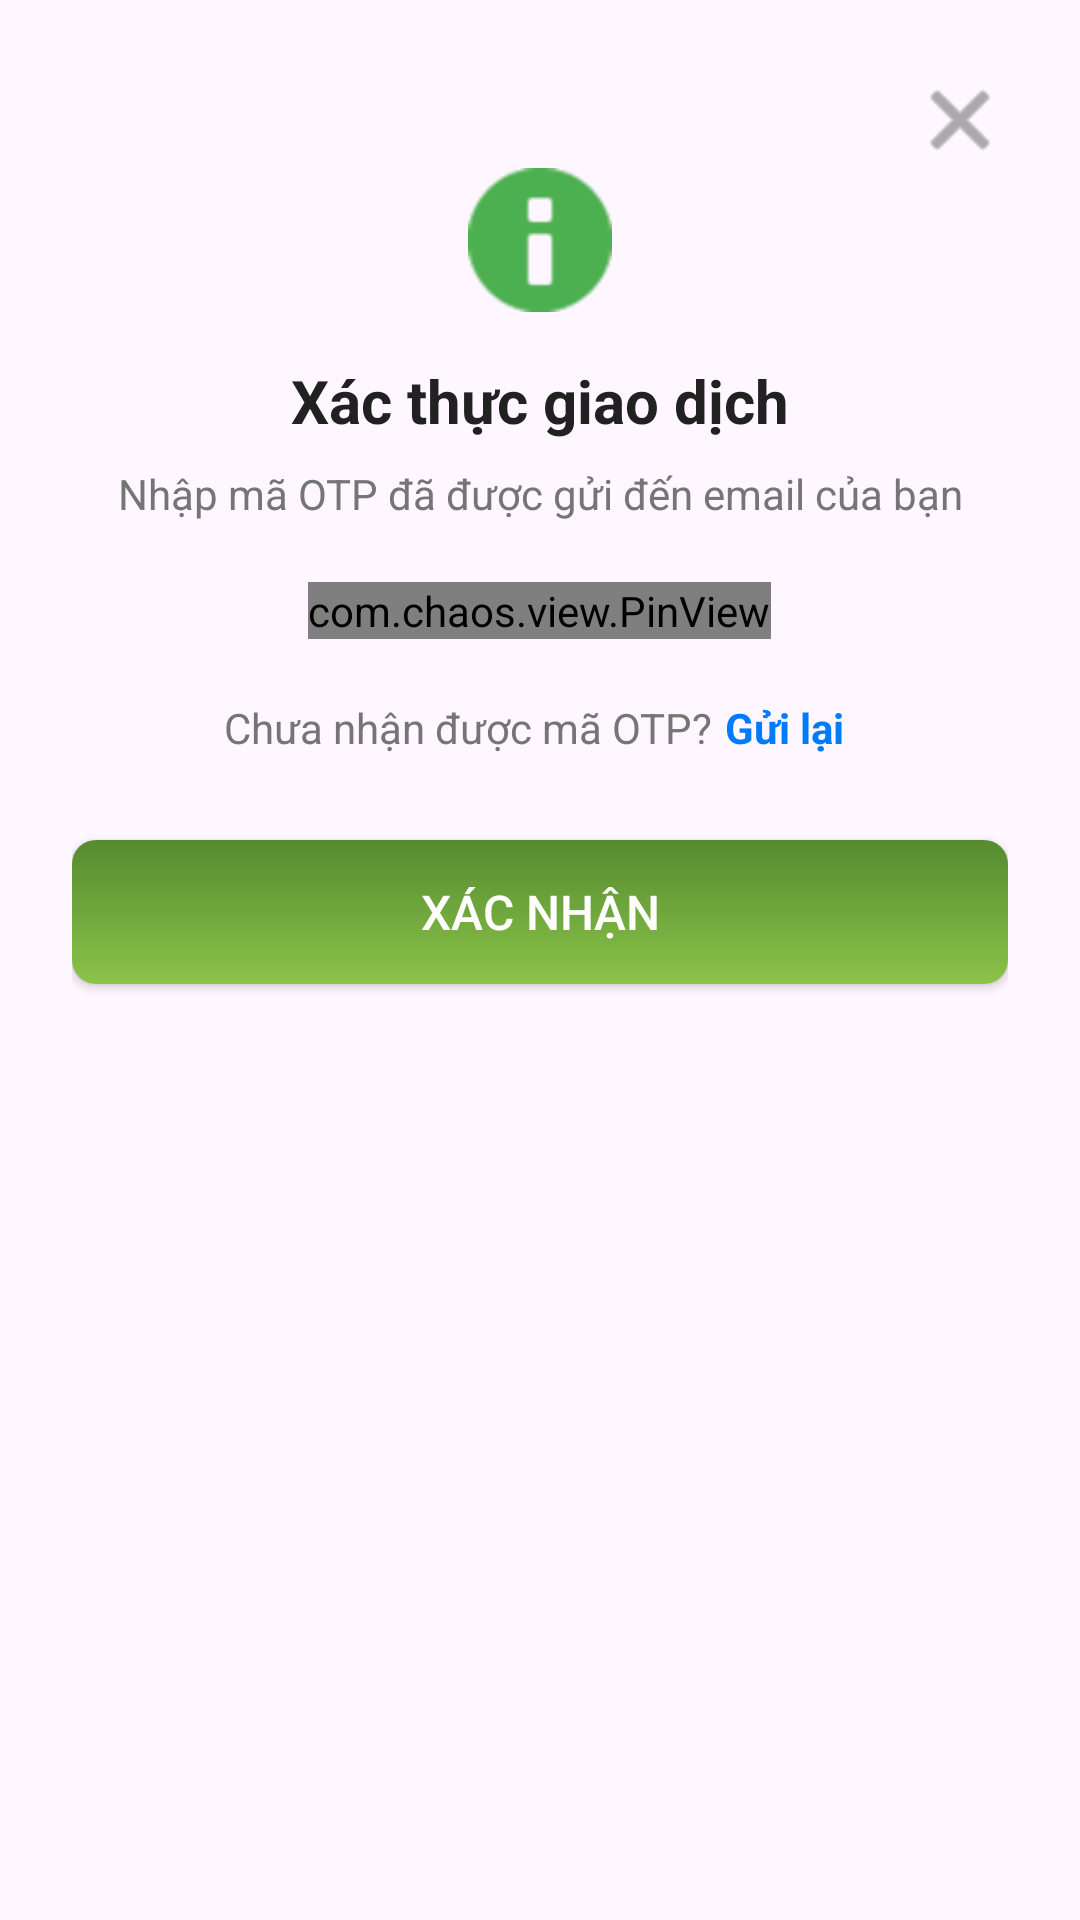

Where to tap for icons on this 1080 × 1920 app screen, as point (x, y):
Close: point (960, 120)
Info Icon: point (540, 240)
